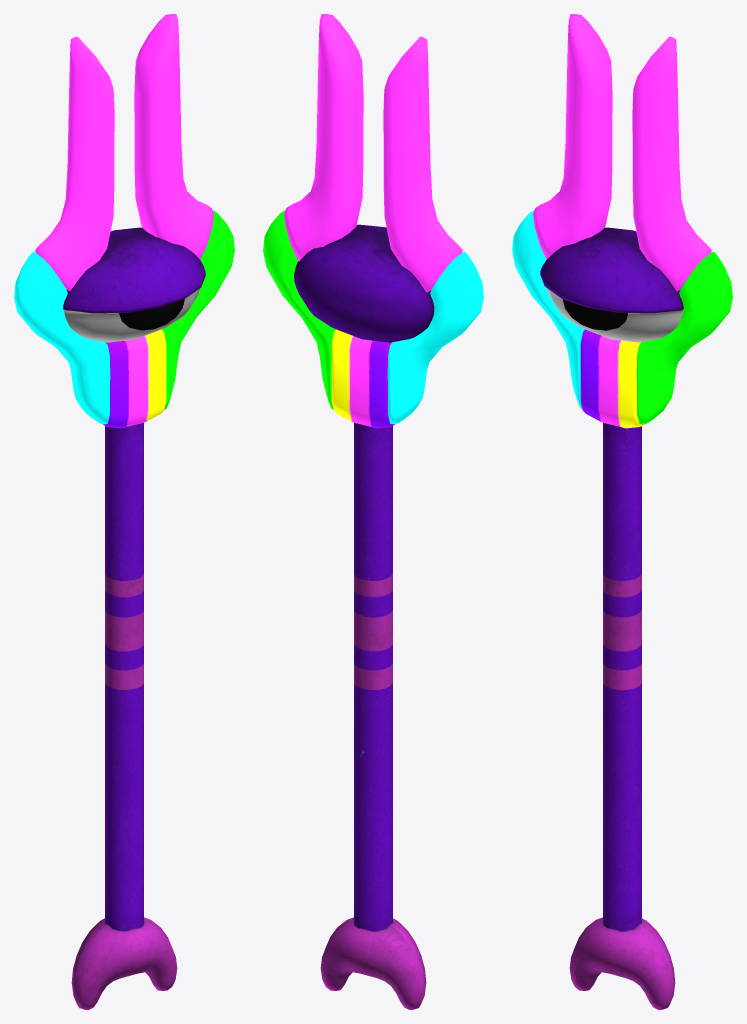
File: StaffOfCharming.fbx
3 views of the same model, side by side, from view 1: azimuth 30°, elevation 25°; view 2: azimuth 150°, elevation 25°; view 3: azimuth 330°, elevation 25° (orthographic).
Parts seen in each view (by area): view 1: Plane.002; view 2: Plane.002; view 3: Plane.002.
Boxes of the visible parts, <box> form: Plane.002: <box>14,14,234,1009</box>; Plane.002: <box>263,14,483,1009</box>; Plane.002: <box>512,14,732,1009</box>.
Bounding box in the file's own units: 5.97 × 25.77 × 3.02.
